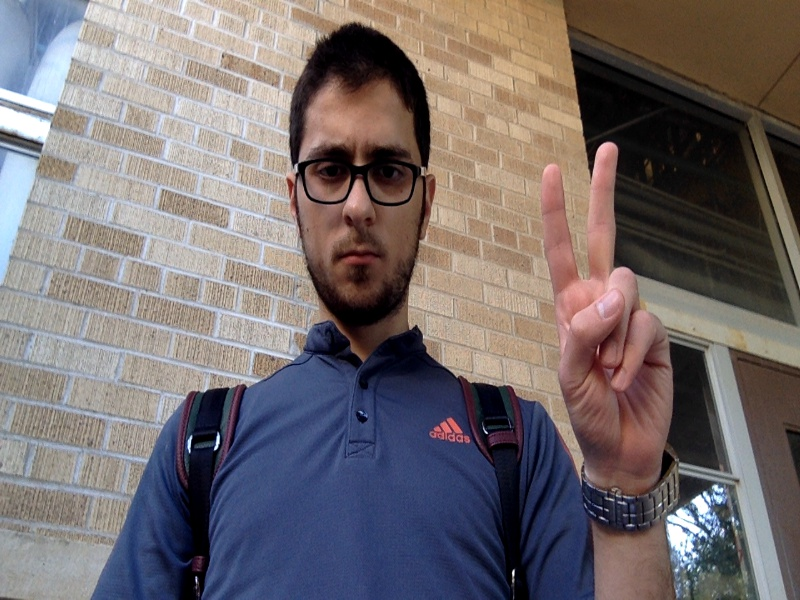2-hand: (542, 139, 673, 463)
